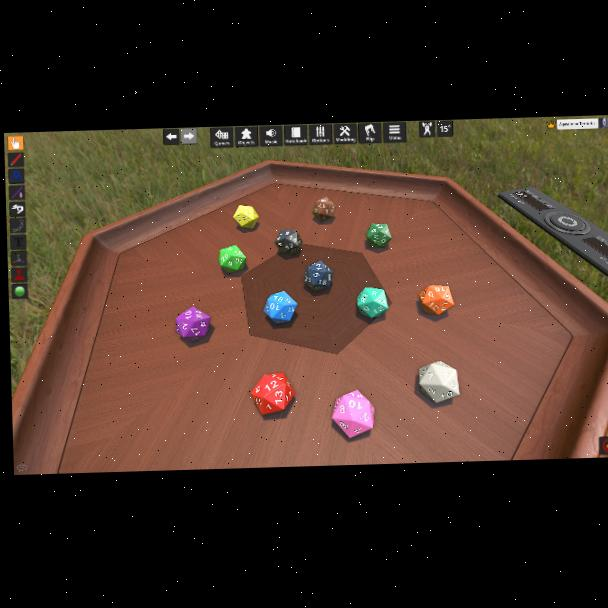d20: (332, 388, 375, 436), (251, 371, 296, 413), (417, 360, 456, 402), (175, 307, 211, 343), (263, 290, 298, 323), (420, 284, 455, 315), (355, 287, 387, 318), (303, 261, 334, 291), (218, 245, 244, 274), (275, 229, 302, 256), (364, 223, 390, 249), (233, 205, 258, 229), (313, 197, 336, 222)
